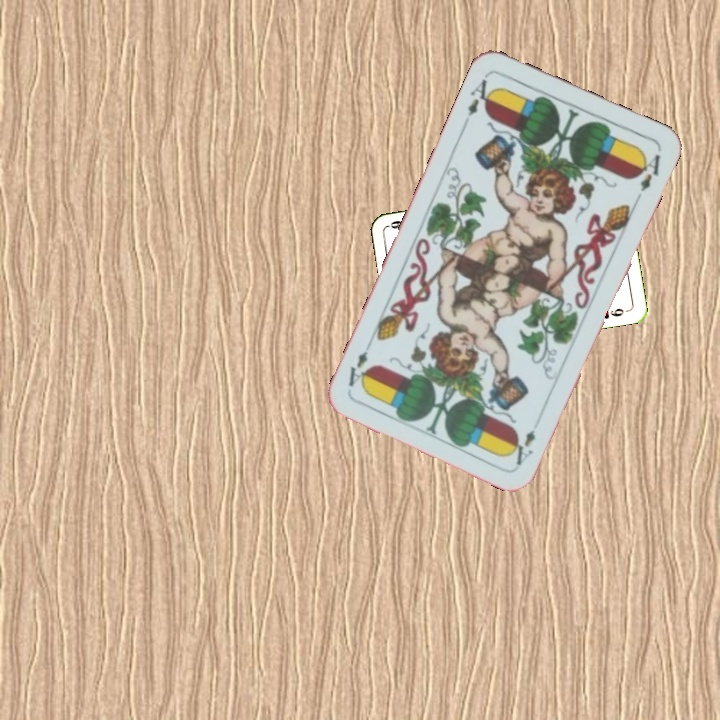EA: (459, 72, 498, 128), (508, 425, 539, 468)
